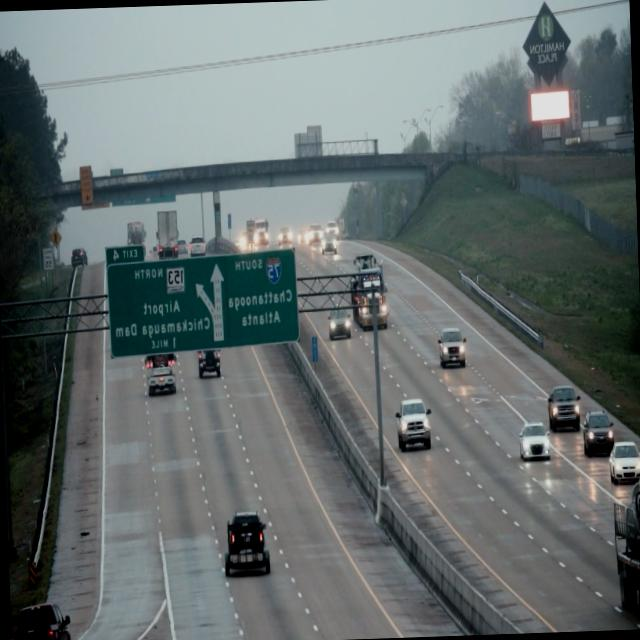Vehicle: (221, 510, 268, 575), (352, 254, 390, 332), (394, 394, 432, 452), (545, 383, 580, 431), (607, 440, 640, 484), (436, 320, 466, 368), (582, 412, 612, 457), (518, 421, 549, 462), (143, 353, 175, 391), (327, 305, 350, 342)
